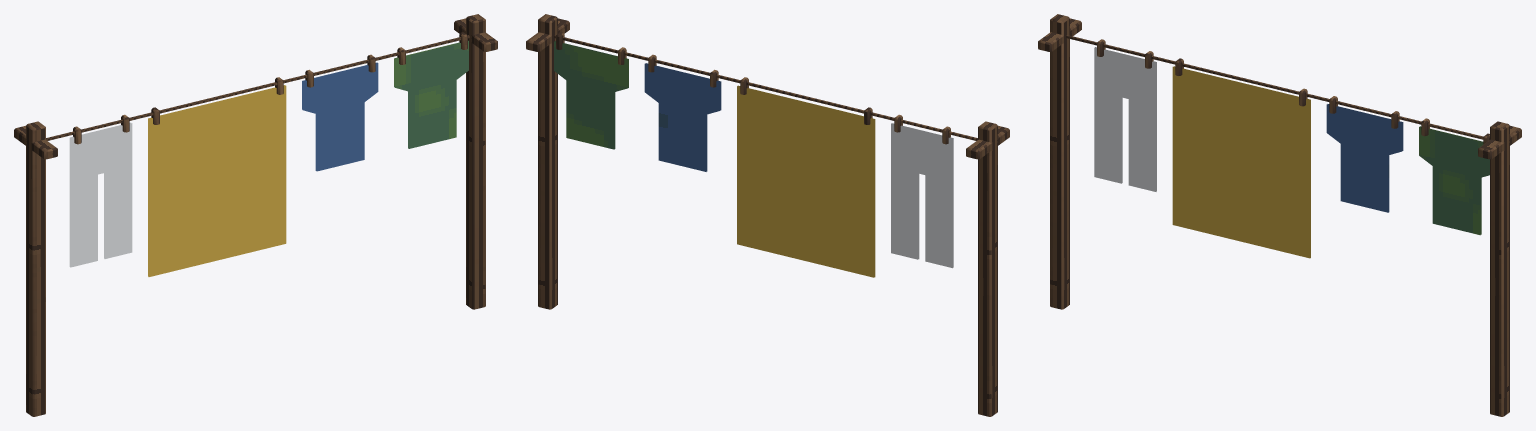
Rendered from cn_clothes_line_2.glb.
3 views of the same model, side by side, from view 1: azimuth 30°, elevation 25°; view 2: azimuth 150°, elevation 25°; view 3: azimuth 330°, elevation 25° (orthographic).
Parts seen in each view (by area): view 1: cn_clothes_line_3; view 2: cn_clothes_line_3; view 3: cn_clothes_line_3.
Part boxes in pixels (x1=…): cn_clothes_line_3: x1=14, y1=14, x2=497, y2=416; cn_clothes_line_3: x1=526, y1=14, x2=1009, y2=416; cn_clothes_line_3: x1=1038, y1=14, x2=1521, y2=416.
Bounding box in the file's own units: 3.3 × 2 × 0.4.
Materials: 7 (7 with a texture image).
